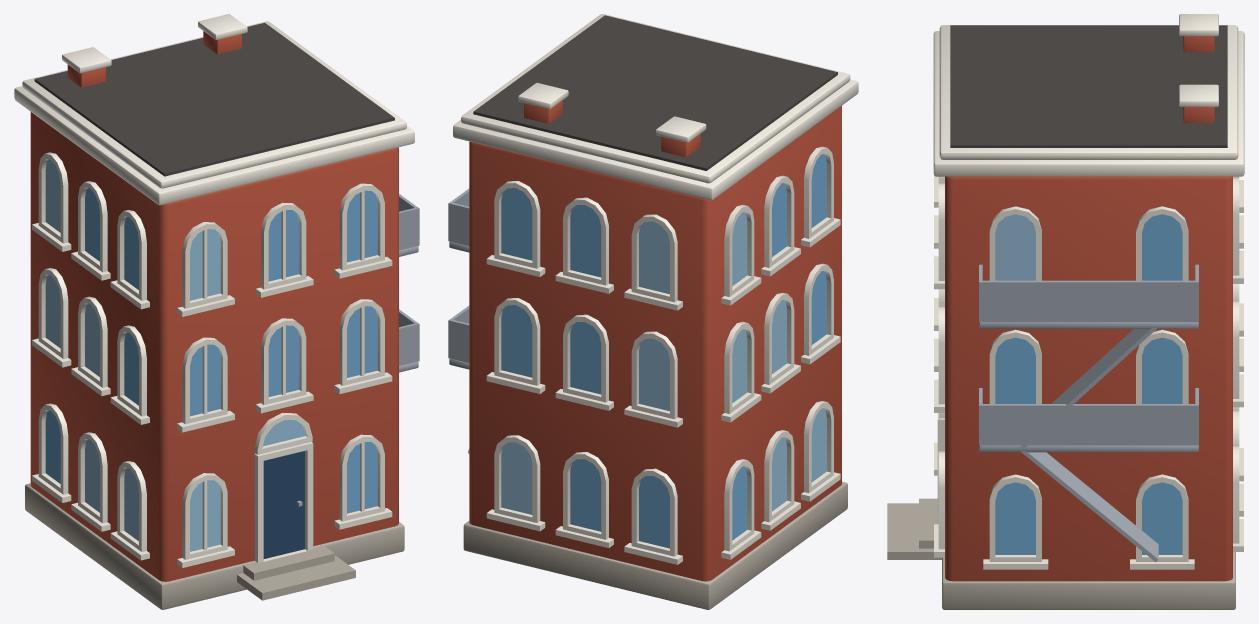
The model's file is building_brick.glb.
3 renders of one model, left to right at view 1: azimuth 30°, elevation 25°; view 2: azimuth 150°, elevation 25°; view 3: azimuth 270°, elevation 25°, orthographic. The views are drawn at different scales.
Visible parts, largest first — view 1: building; view 2: building; view 3: building.
Part boxes in pixels (box(x1,y1,x2,y2)): building: box(14, 14, 419, 609); building: box(448, 14, 858, 609); building: box(887, 14, 1244, 609).
Size of the model in its own units: 6.64 by 10.24 by 6.82.
